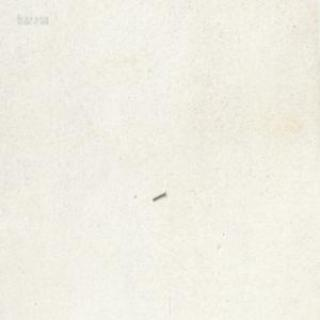Bolttrack_idkeyframe: (150, 189, 165, 200)
